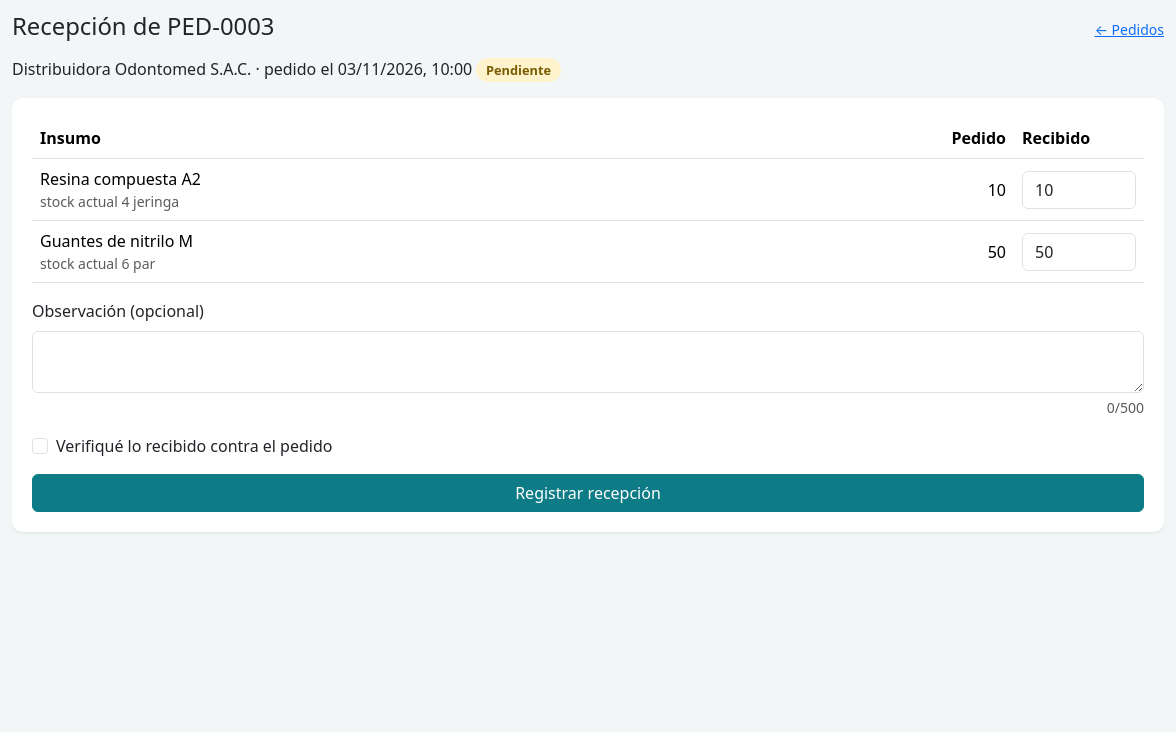
CU-33 RecepcionPedido › 6.1: con diferencias resalta la fila y exige observación
The width and height of the screenshot is (1176, 732).
Replace the text in the field named "Recibido de Guantes de nitrilo M" with "30" at (1079,252), box [1022,233,1136,271]
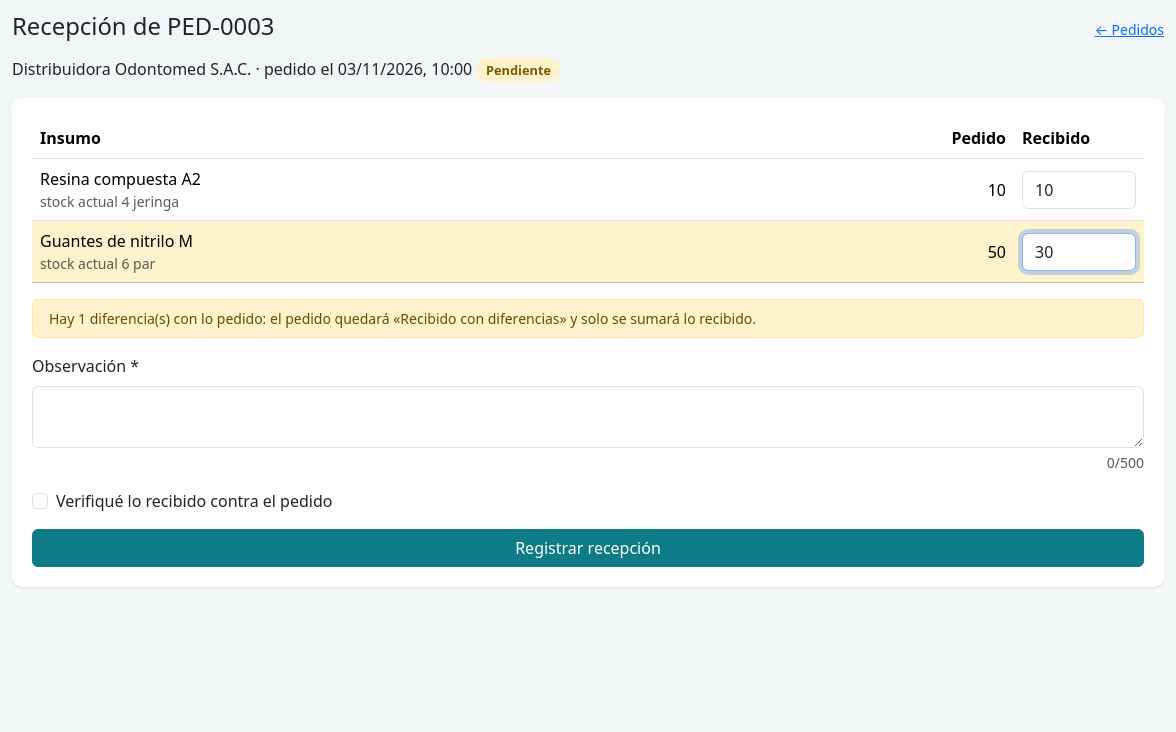
Now the text "Hay 1 diferencia(s)" is shown, box [32,299,1144,338]
Click the checkbox labelled "Verifiqué lo recibido contra el pedido".
click(40, 501)  # box [32,493,48,509]
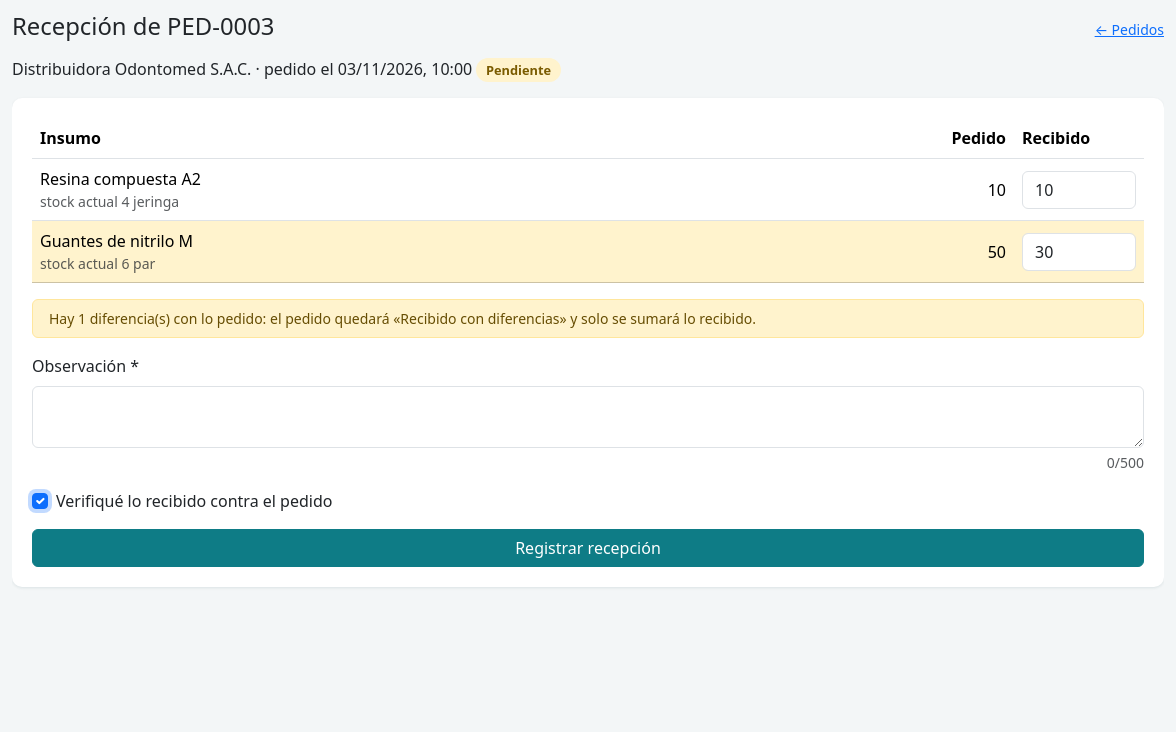
Click the button "Registrar recepción".
click(588, 548)  # box [32,529,1144,567]
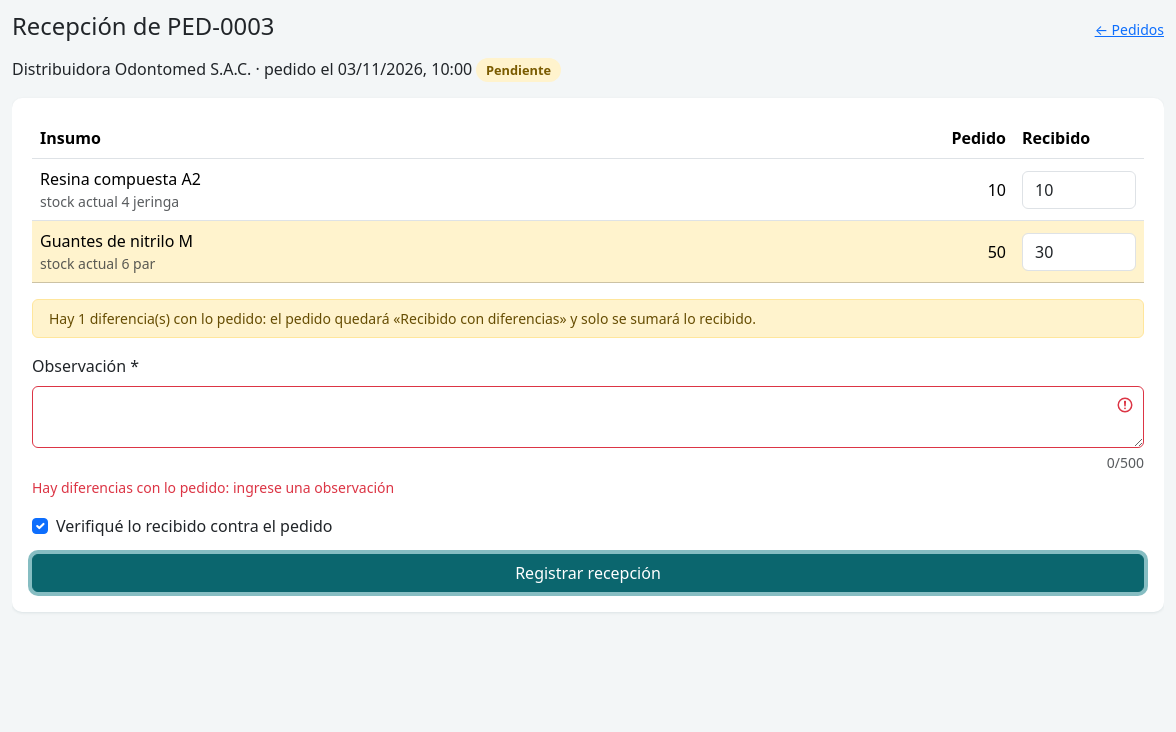
Now the text "Hay diferencias con lo pedido: ingrese una observación" is shown, box [32,478,394,497]
Type "Faltaron 20 pares" into the text box labelled "Observación *".
click(588, 417); type("Faltaron 20 pares")  # box [32,386,1144,448]
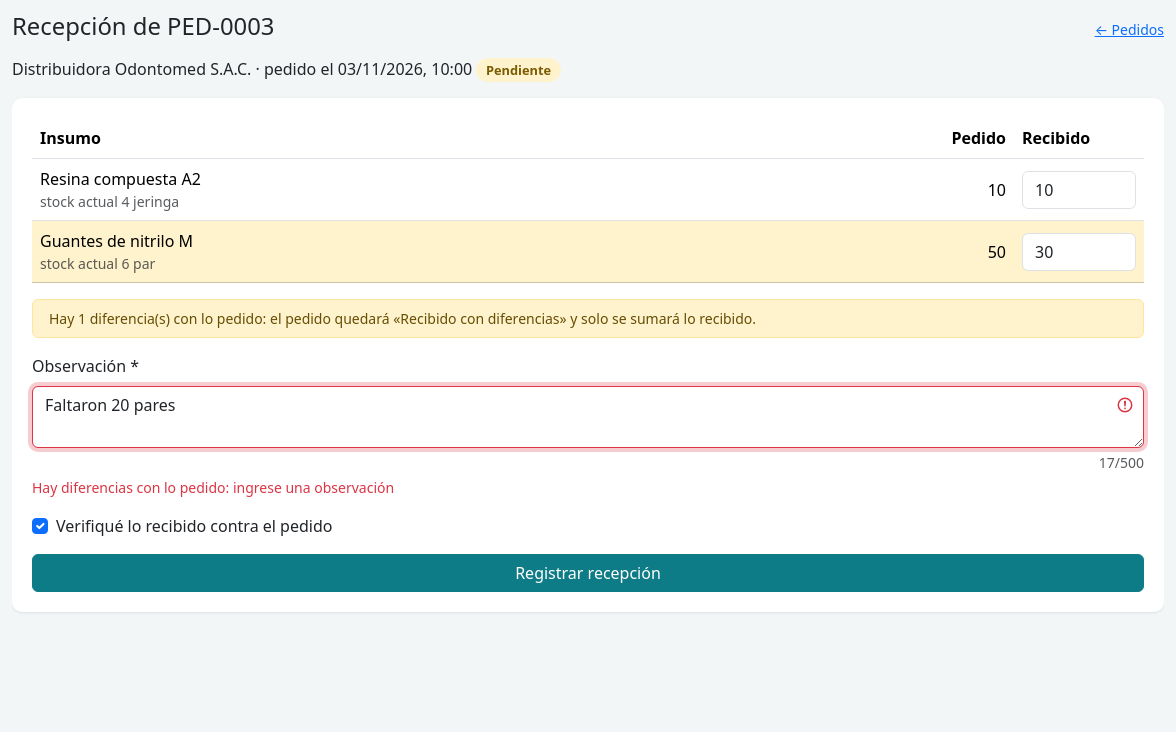
Click the button "Registrar recepción".
click(588, 573)  # box [32,554,1144,592]
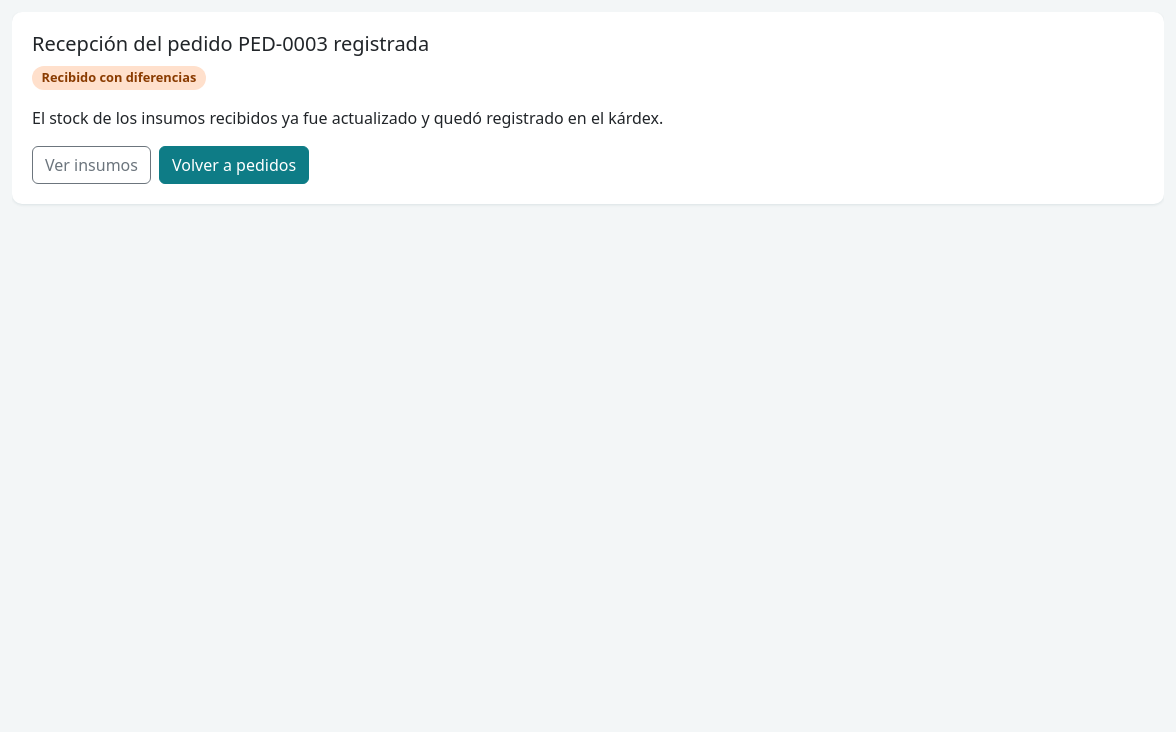
Now the heading "Recepción del pedido PED-0003 registrada" is shown, box [32,30,429,57]
